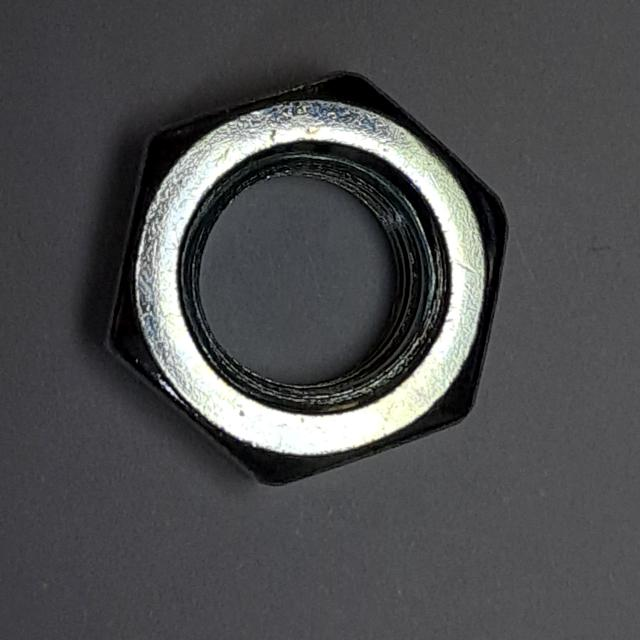Excellent: (93, 55, 519, 498)
